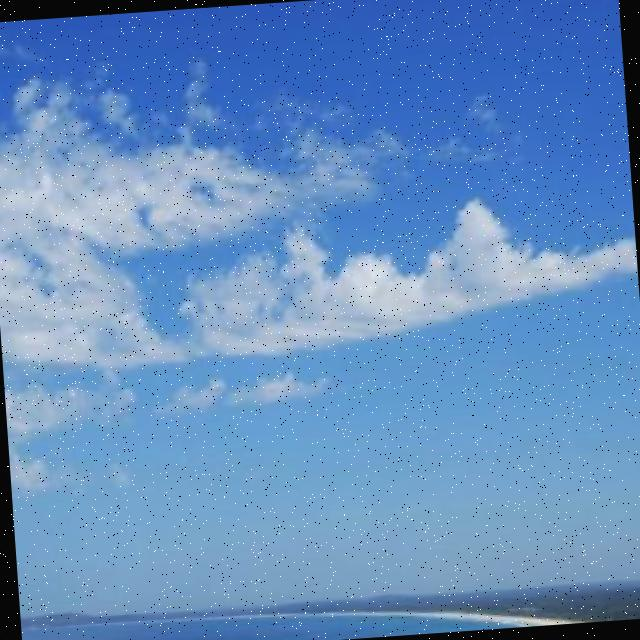Ac: (1, 17, 640, 402)
